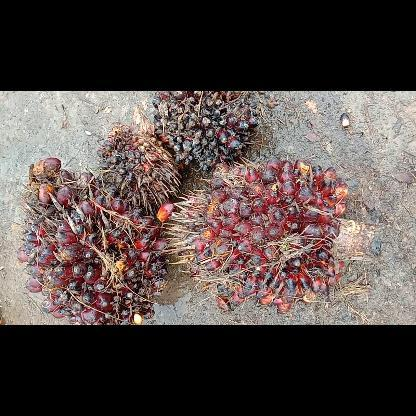Kurang masak: (17, 158, 167, 324)
TBS abnormal: (97, 106, 181, 212), (152, 90, 260, 170)
TBS masak: (164, 156, 376, 312)
